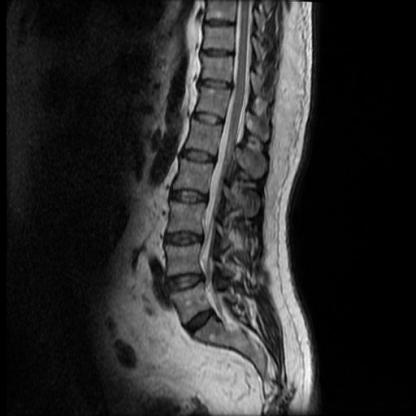Disc Bulgerotation: (182, 307, 224, 334)
Disc Relaxationrotation: (162, 185, 212, 298), (180, 308, 221, 331)
